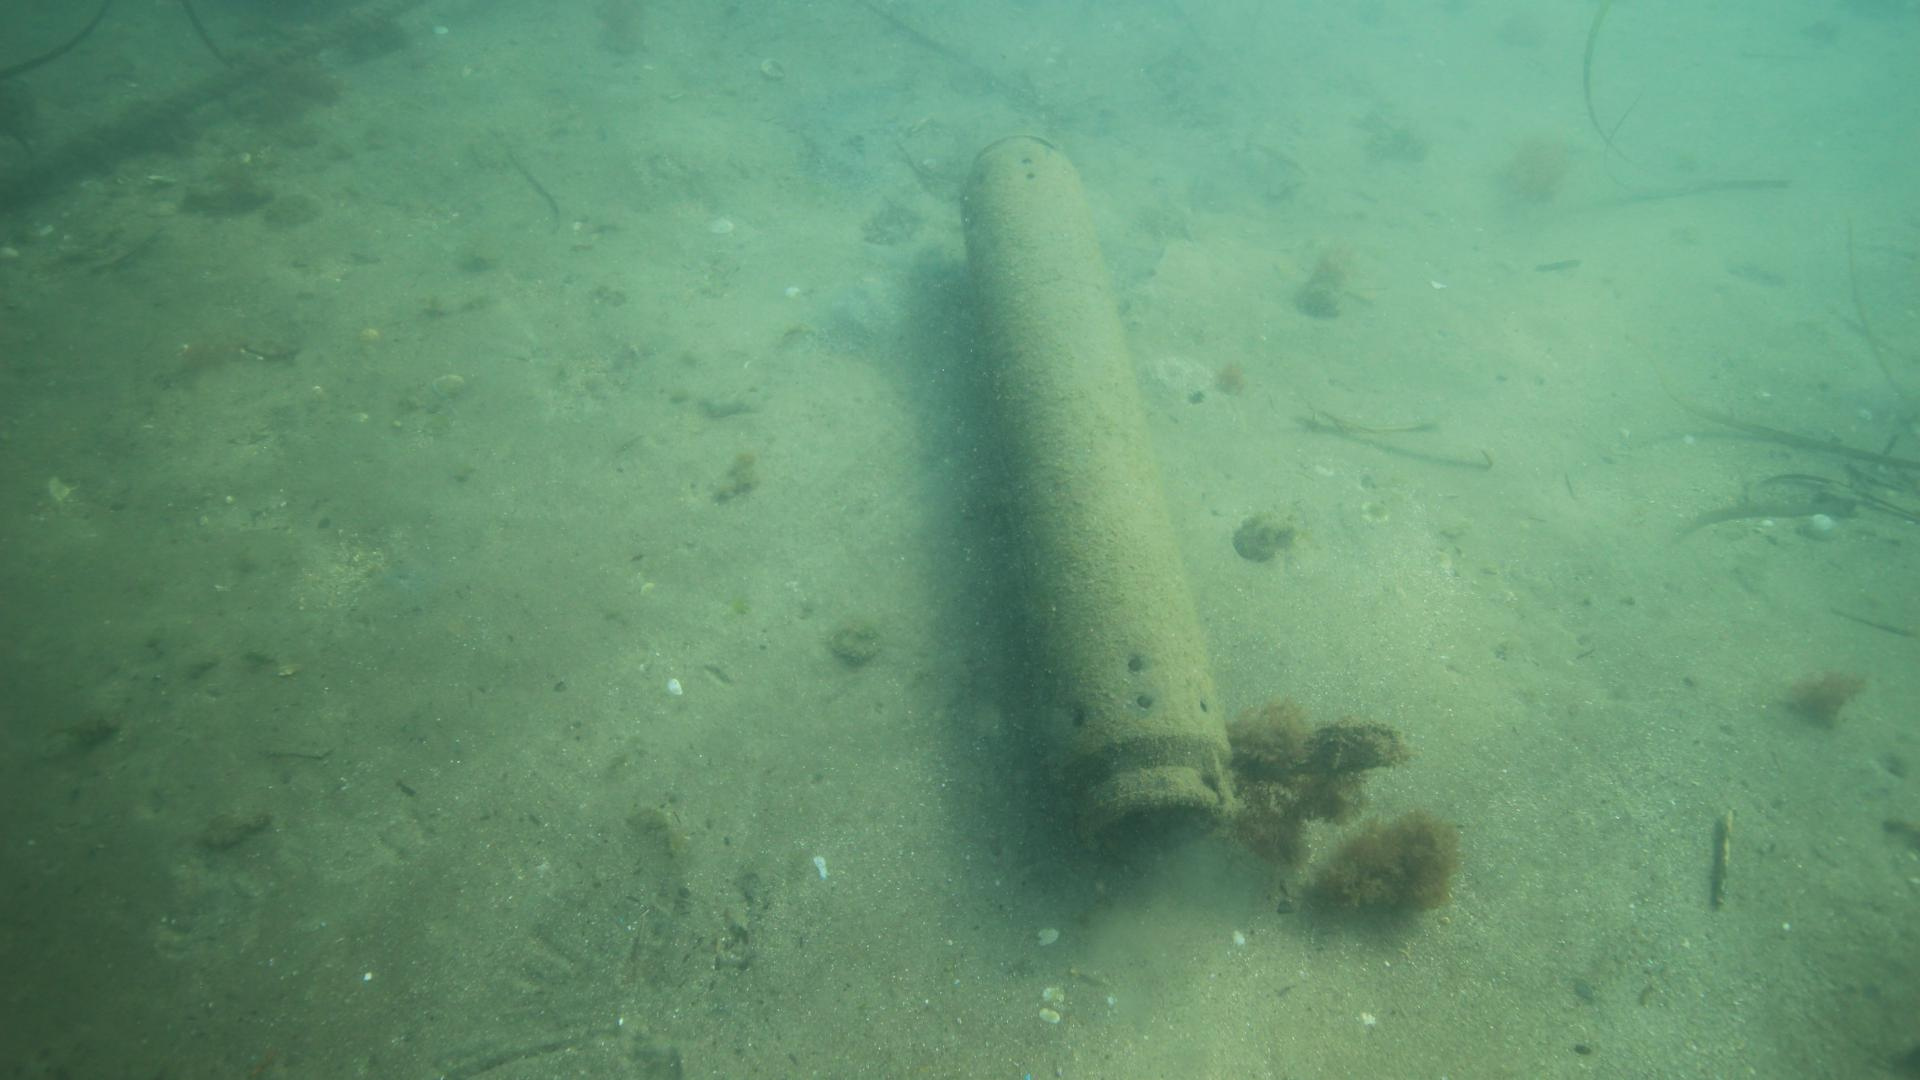eel fish trap: (957, 131, 1236, 853)
